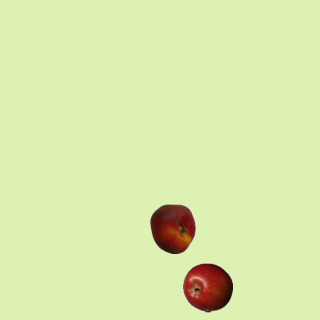Apple Braeburn: (182, 262, 232, 312)
Nectarine Flat: (147, 203, 197, 253)
